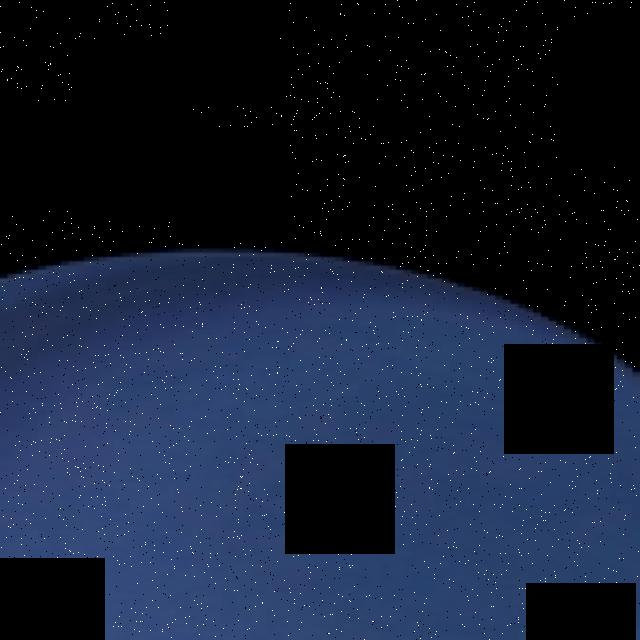Neptune: (0, 243, 640, 640)
